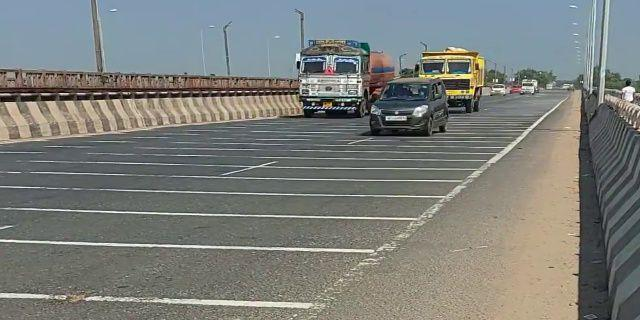Car: (369, 78, 452, 137)
Truck: (293, 36, 387, 118), (416, 47, 491, 116)
